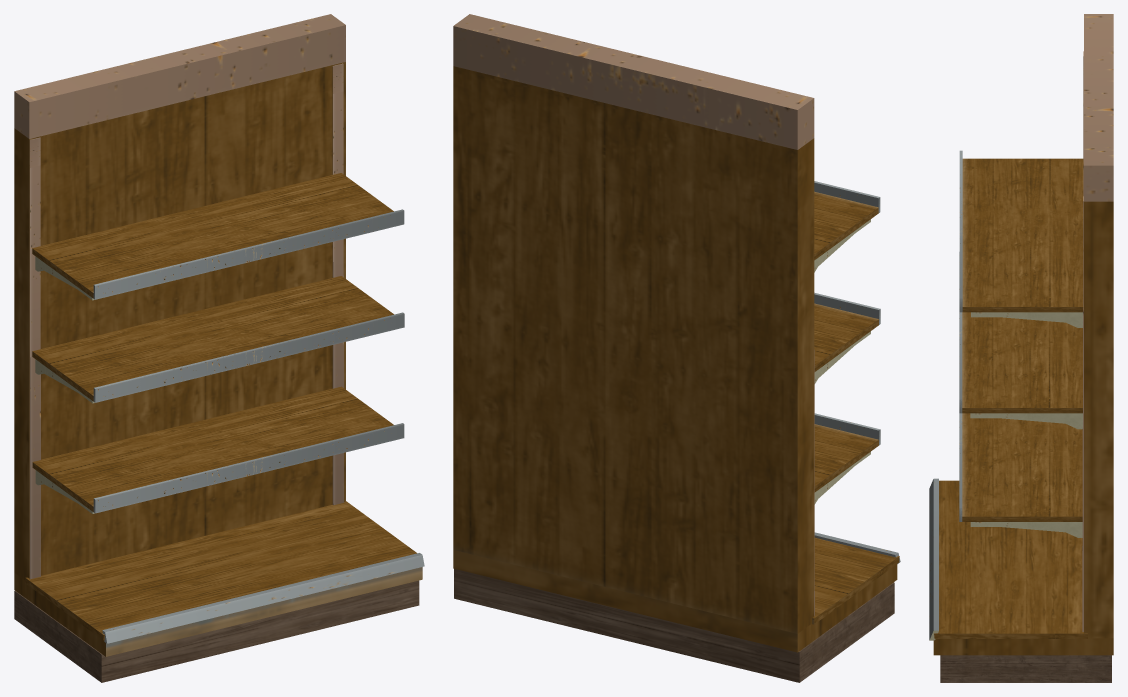
Rendered from convshelf2b.fbx.
3 renders of one model, left to right at view 1: azimuth 30°, elevation 25°; view 2: azimuth 150°, elevation 25°; view 3: azimuth 270°, elevation 25°, orthographic. The views are drawn at different scales.
Visible parts, largest first — view 1: convshelf2b; view 2: convshelf2b; view 3: convshelf2b.
Part boxes in pixels (bbox=[...]): convshelf2b: bbox=[14, 14, 424, 682]; convshelf2b: bbox=[453, 14, 900, 682]; convshelf2b: bbox=[929, 14, 1113, 682].
Size of the model in its own units: 120 by 189 by 61.03.
